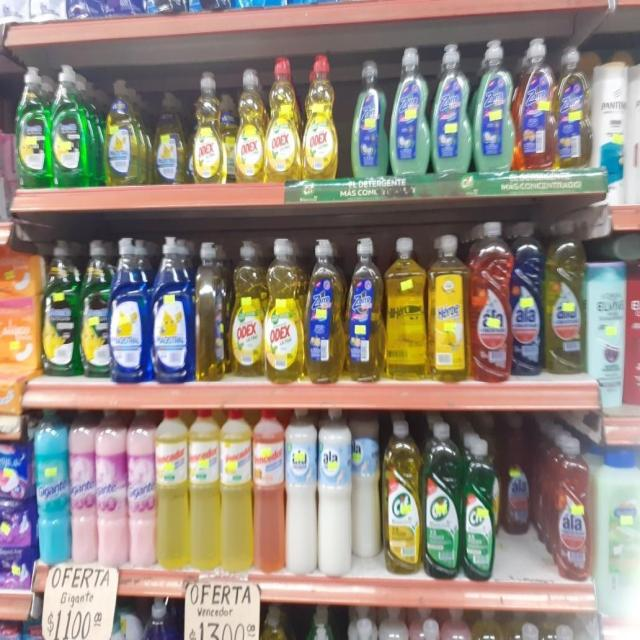ala_conc_amarillo: (545, 219, 585, 376)
ala_conc_azul: (510, 219, 544, 379)
ala_conc_rojo: (470, 220, 510, 384), (550, 434, 592, 582), (501, 419, 535, 536)
ala_crem_amarillo: (474, 610, 506, 640)
ala_crem_blanco: (318, 408, 352, 577), (285, 407, 317, 576)
cif_conc_bot_amarilla: (383, 419, 421, 576)
cif_conc_botella_verde: (424, 421, 461, 581), (462, 436, 497, 582)
gigante: (0, 411, 34, 580), (34, 410, 70, 565), (96, 409, 127, 568), (128, 409, 156, 568), (69, 409, 97, 566)
heroe: (411, 607, 442, 640), (443, 608, 474, 640), (381, 606, 410, 640), (344, 616, 381, 640)
magistral_con_amarillo: (104, 78, 148, 186), (152, 90, 188, 185), (253, 606, 294, 640)
magistral_con_azul: (152, 235, 192, 385), (111, 236, 149, 385), (139, 600, 177, 640), (176, 608, 209, 640)
magistral_con_verde: (52, 63, 94, 188), (15, 66, 50, 190)
odex: (264, 238, 304, 383), (303, 55, 341, 180), (230, 240, 264, 378), (190, 72, 228, 184), (266, 56, 300, 181), (234, 68, 265, 184)
zorro: (305, 237, 344, 384), (473, 38, 514, 175), (346, 236, 383, 383), (432, 41, 471, 176), (390, 45, 429, 178), (516, 36, 554, 172), (350, 58, 387, 179), (556, 46, 591, 171)
